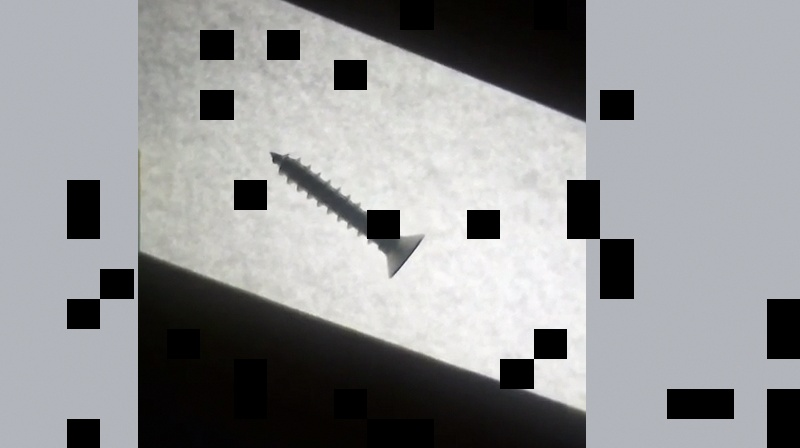S001: (262, 147, 426, 283)
